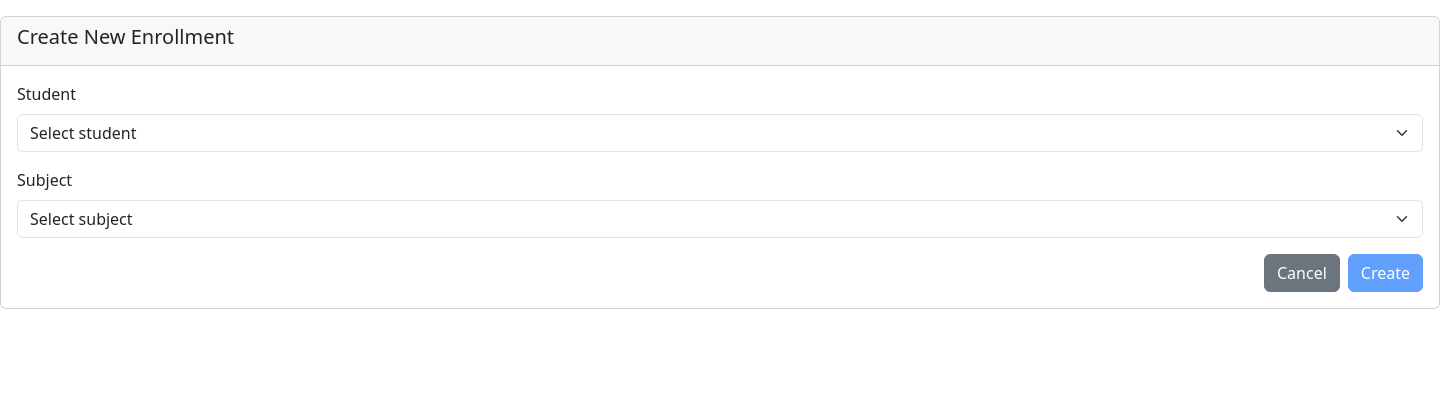
Test: EnrollmentCreateForm › submits the selected ids and surfaces a server error inline
Select "Ana Anić" in the dropdown labelled "Student" at (720, 133), box left=17, top=114, right=1423, bottom=152
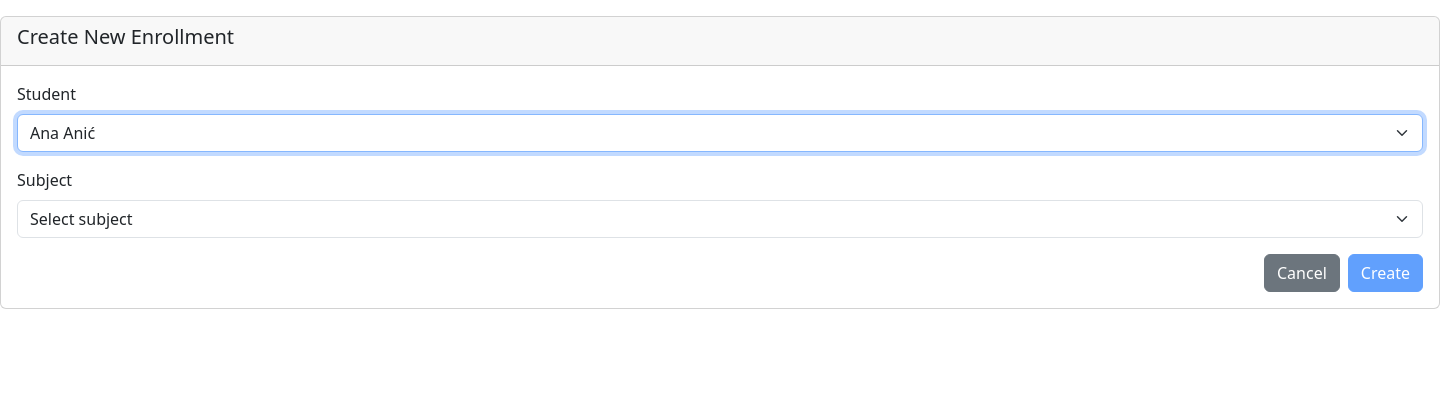
Select "Databases" in the dropdown labelled "Subject" at (720, 219), box left=17, top=200, right=1423, bottom=238
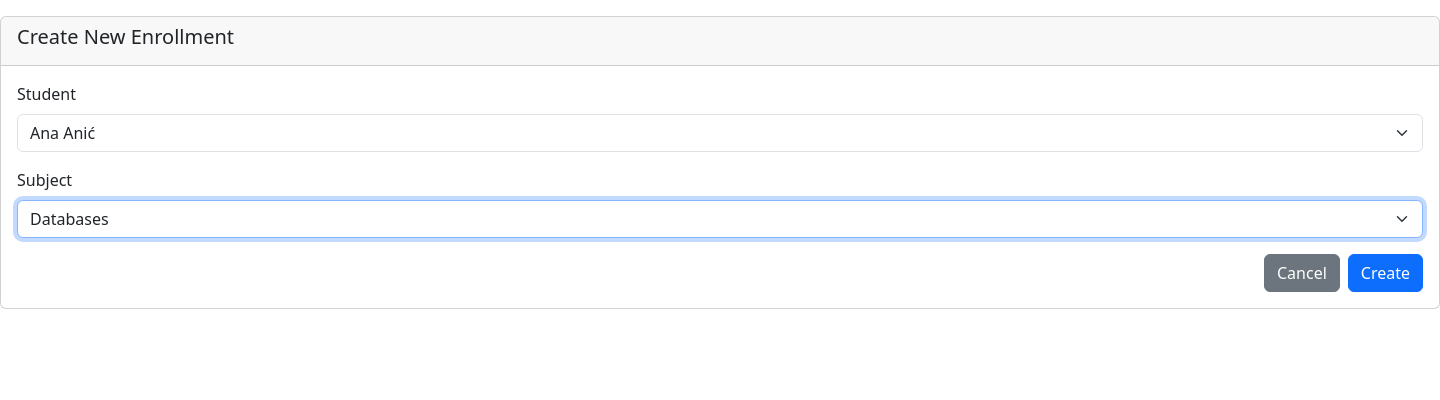
Click the button "Create" at (1385, 273), box left=1348, top=254, right=1423, bottom=292
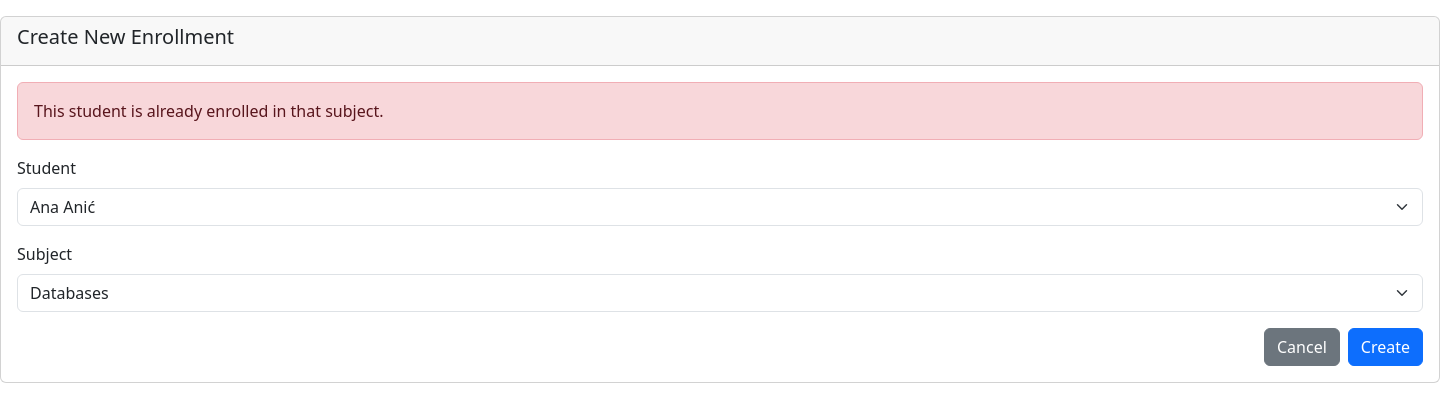
Expected: the text "This student is already enrolled in that subject." is shown, left=17, top=82, right=1423, bottom=140
